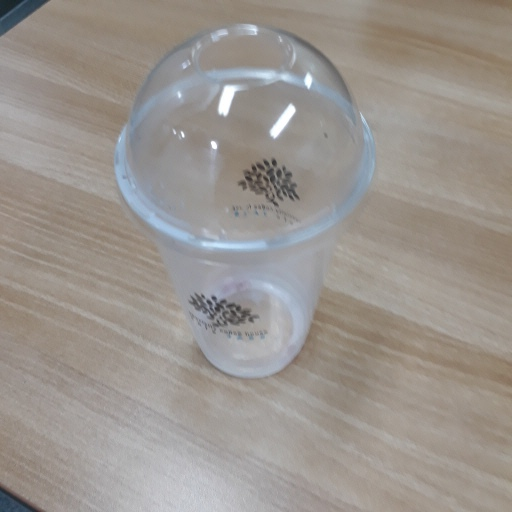Plastic_2: (109, 22, 380, 382)
